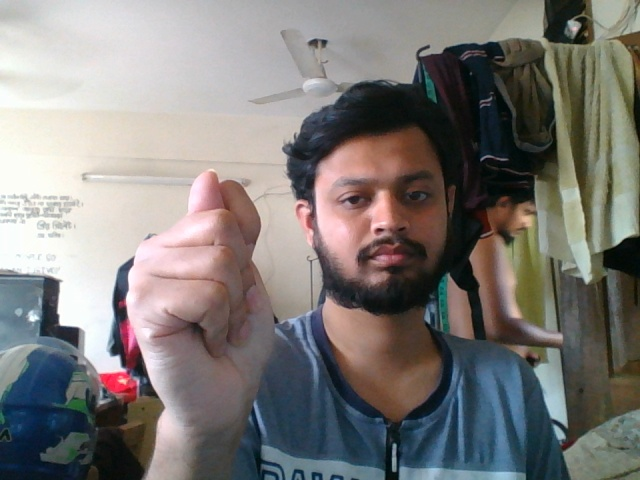ta: (122, 166, 284, 453)
